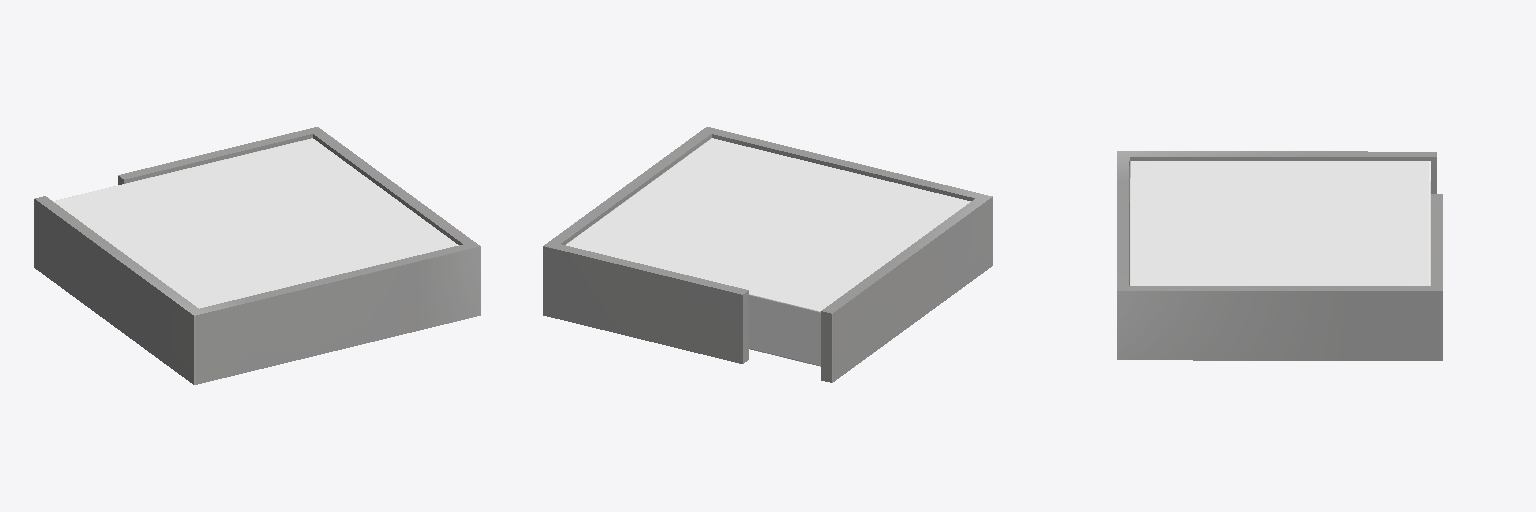
The picture shows the model from 3 angles: view 1: azimuth 30°, elevation 25°; view 2: azimuth 150°, elevation 25°; view 3: azimuth 270°, elevation 25°; orthographic projection.
Parts seen in each view (by area): view 1: solid_001_wire; view 2: solid_001_wire; view 3: solid_001_wire.
Part boxes in pixels (x1,y1,x2,y2): solid_001_wire: (34,127,480,384); solid_001_wire: (543,127,992,382); solid_001_wire: (1117,151,1442,360).
Bounding box in the file's own units: 0.5426 × 0.1256 × 0.5361.
Materials: 1 (1 with a texture image).